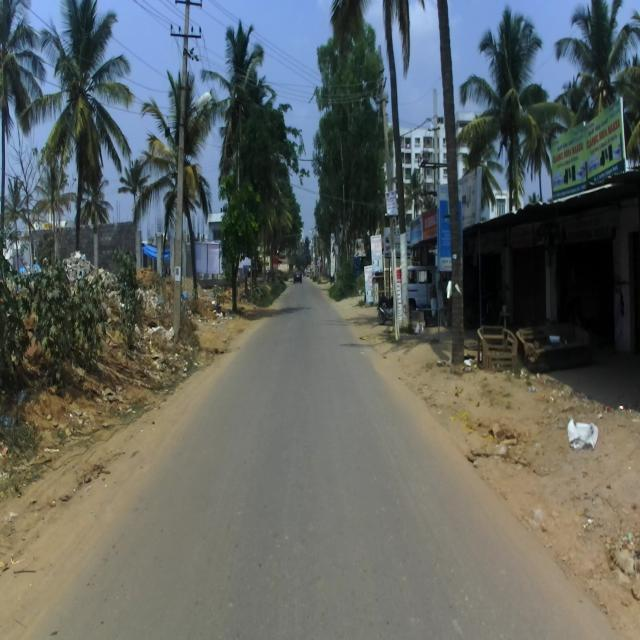electric pole ahead at: (164, 0, 206, 344)
tree ahead at: (431, 0, 476, 372)
